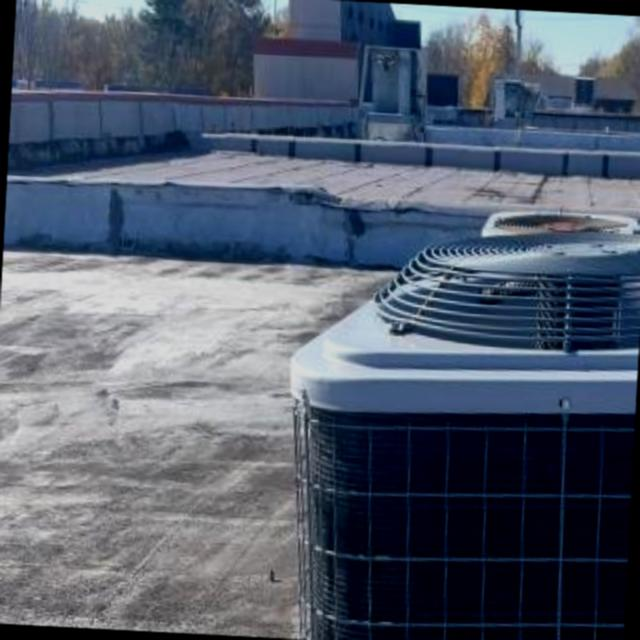SPLIT-SYSTEM: (269, 194, 640, 640)
